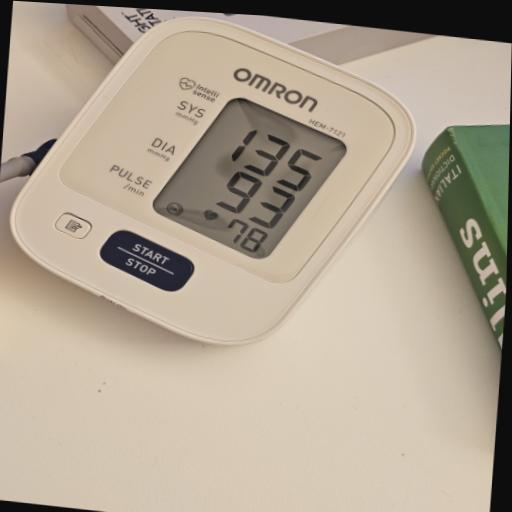blood pressure monitor: (0, 0, 427, 369)
